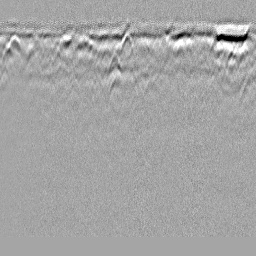cavity: (121, 30, 134, 51)
